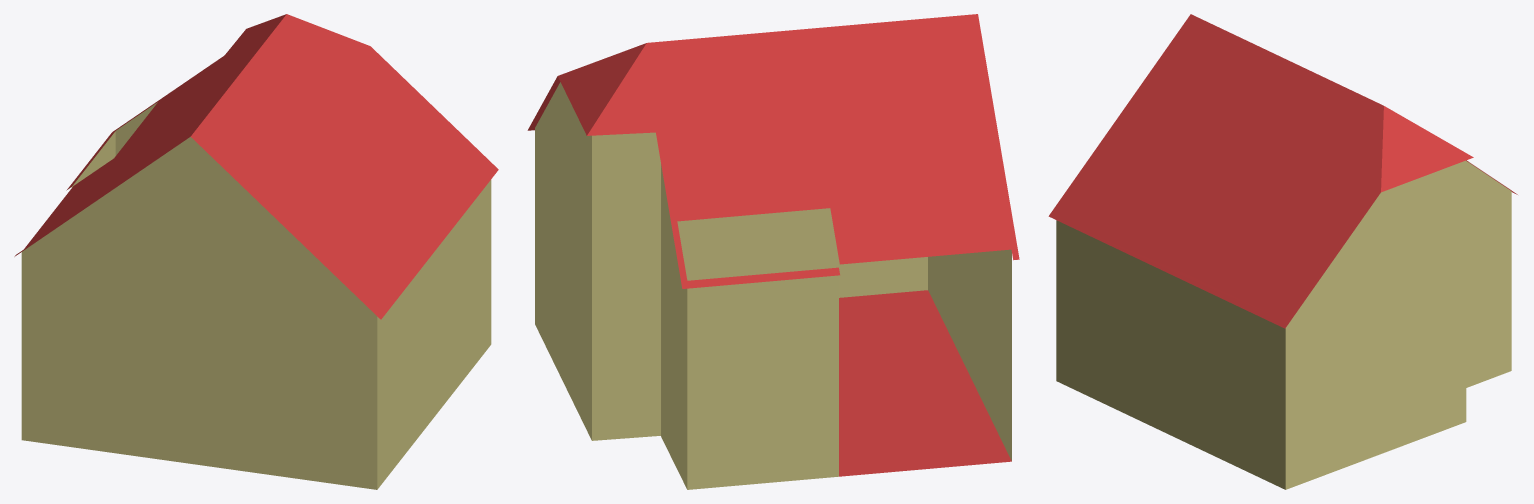
3 renders of one model, left to right at view 1: azimuth 30°, elevation 25°; view 2: azimuth 150°, elevation 25°; view 3: azimuth 270°, elevation 25°, orthographic. The views are drawn at different scales.
Bounding box in the file's own units: 22.88 × 21.13 × 15.51.
